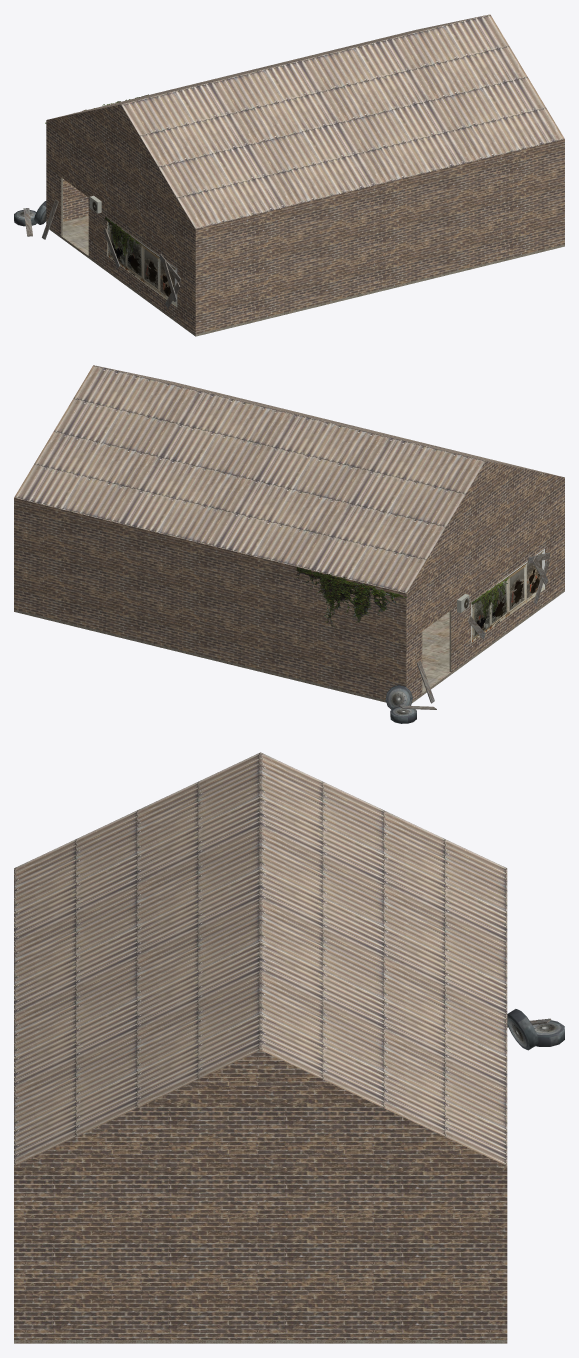
File: whouse.fbx
3 renders of one model, top to bottom at view 1: azimuth 30°, elevation 25°; view 2: azimuth 150°, elevation 25°; view 3: azimuth 270°, elevation 25°, orthographic. The views are drawn at different scales.
Parts seen in each view (by area): view 1: Warehouse; view 2: Warehouse; view 3: Warehouse.
Part boxes in pixels (bbox=[...]): Warehouse: bbox=[14, 14, 564, 336]; Warehouse: bbox=[14, 365, 564, 723]; Warehouse: bbox=[14, 752, 564, 1343].
Size of the model in its own units: 10.65 by 4.62 by 7.82.
